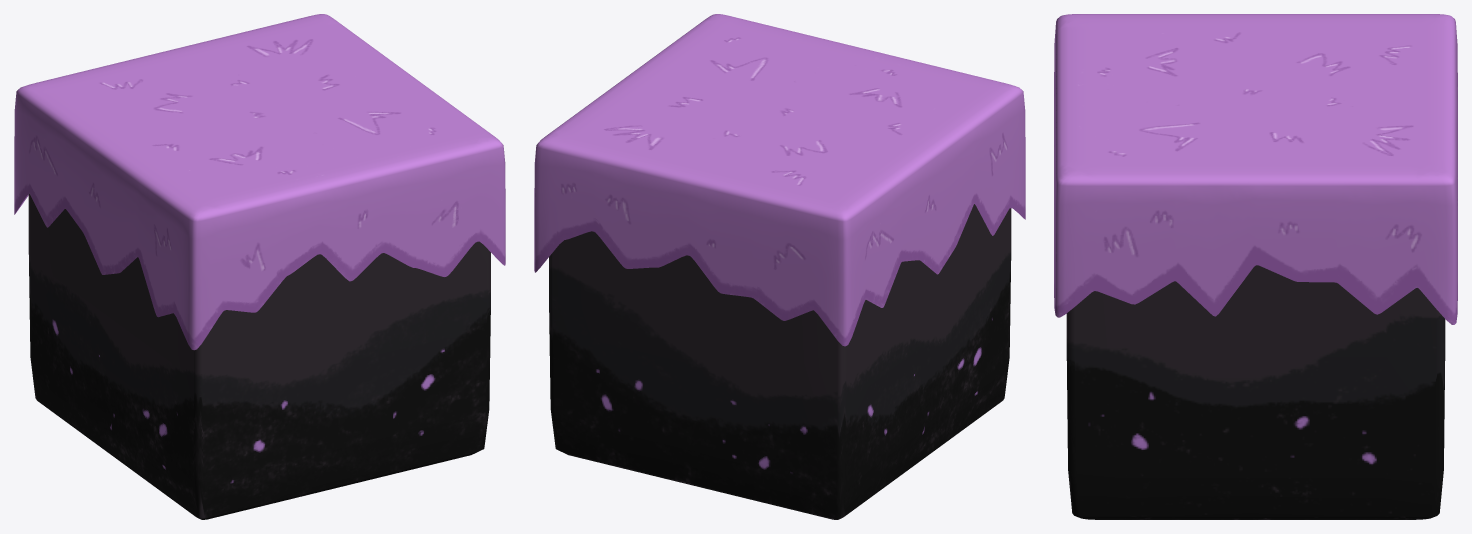
Rendered from DarkDirt_Block.fbx.
The picture shows the model from 3 angles, left to right: view 1: azimuth 30°, elevation 25°; view 2: azimuth 150°, elevation 25°; view 3: azimuth 270°, elevation 25°; orthographic projection. The views are drawn at different scales.
Parts seen in each view (by area): view 1: Dirt_low6; view 2: Dirt_low6; view 3: Dirt_low6.
Boxes of the visible parts, x1=… form: Dirt_low6: x1=14, y1=14, x2=505, y2=519; Dirt_low6: x1=534, y1=14, x2=1025, y2=519; Dirt_low6: x1=1054, y1=14, x2=1457, y2=519.
Size of the model in its own units: 2.67 by 2.63 by 2.67.
Materials: 1 (1 with a texture image).
